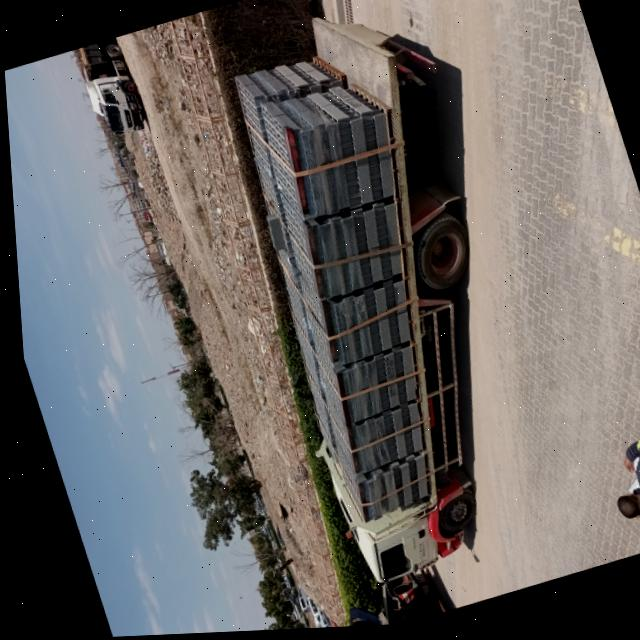bricks: (236, 62, 431, 518)
